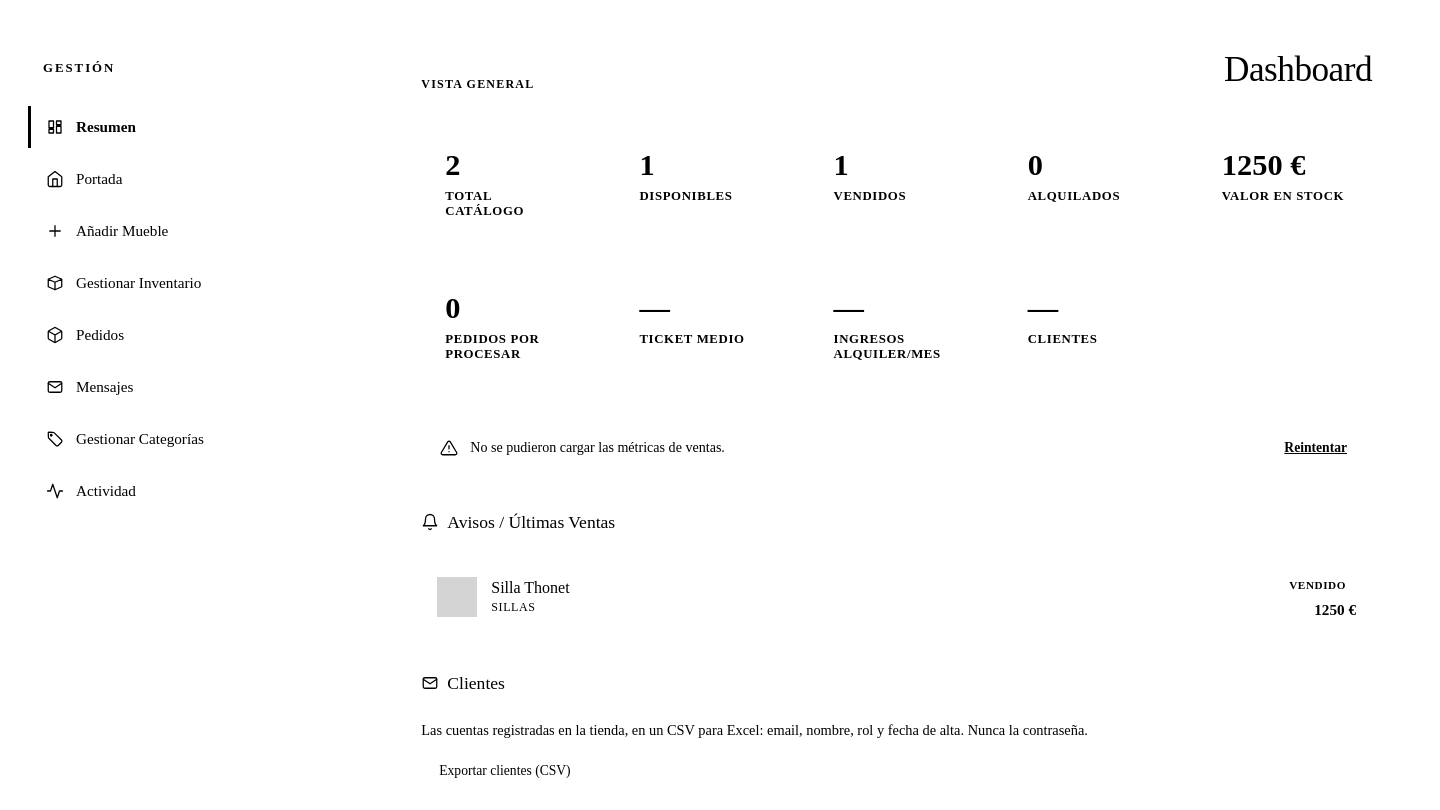
Test: Inventario — duplicar pieza › el menú de cada fila tiene "Duplicar", y pide confirmación antes de hacer nada
Click the button "Gestionar Inventario" at point(185, 283), box [28, 262, 341, 304]
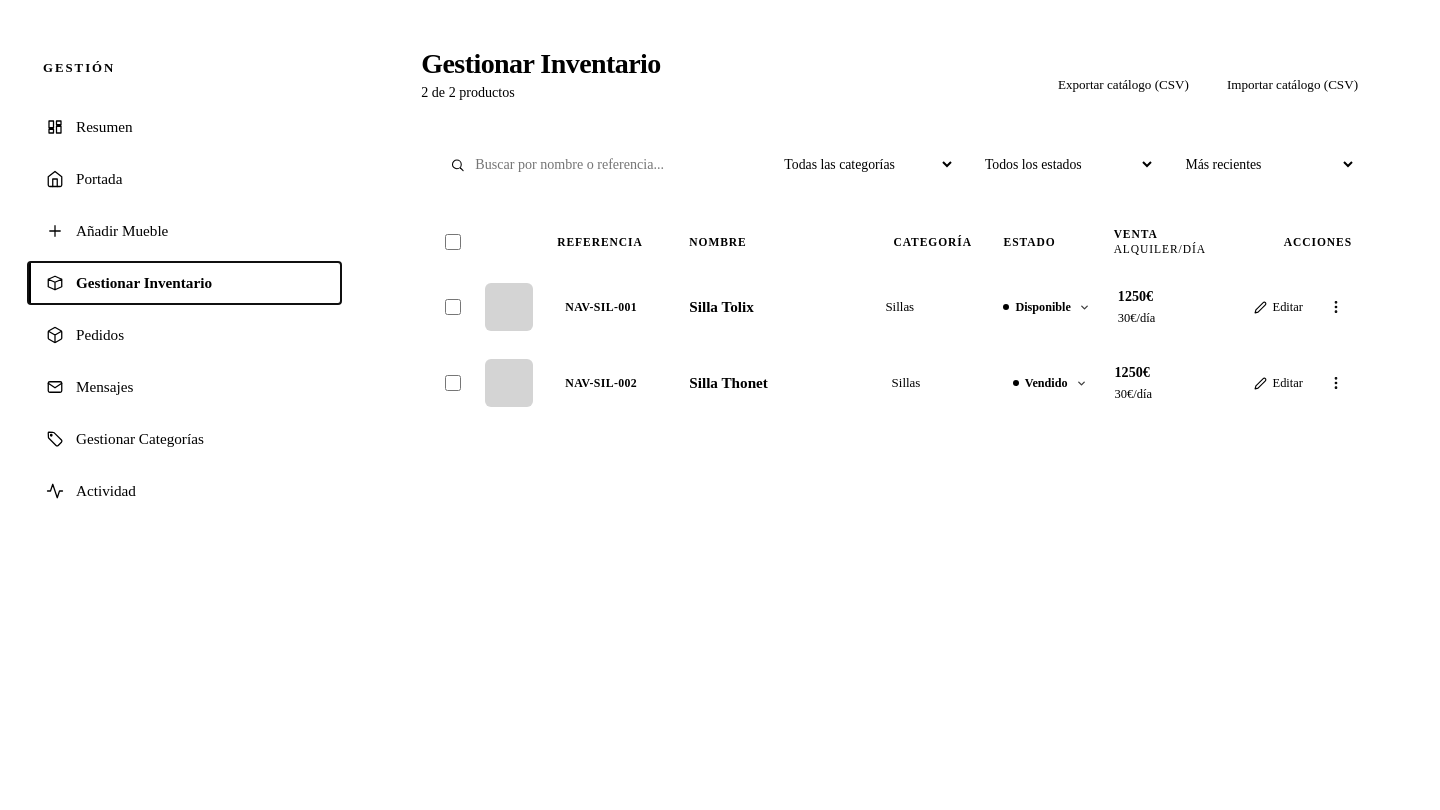
Click the button named "Más acciones de Silla Tolix" at point(1336, 307), box [1320, 293, 1352, 321]
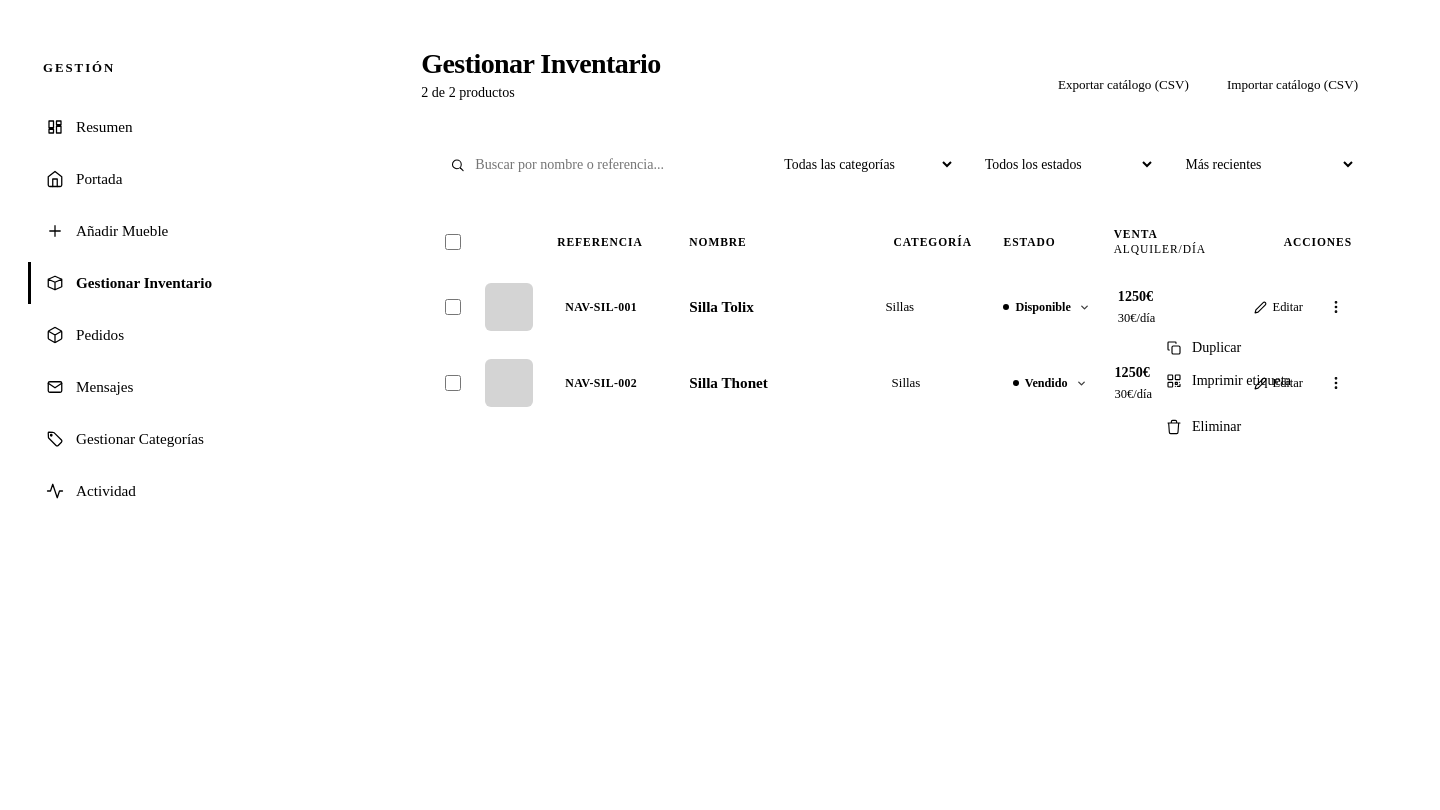
Check: the menu item "Duplicar" is shown, box [1156, 331, 1346, 364]
Press Escape
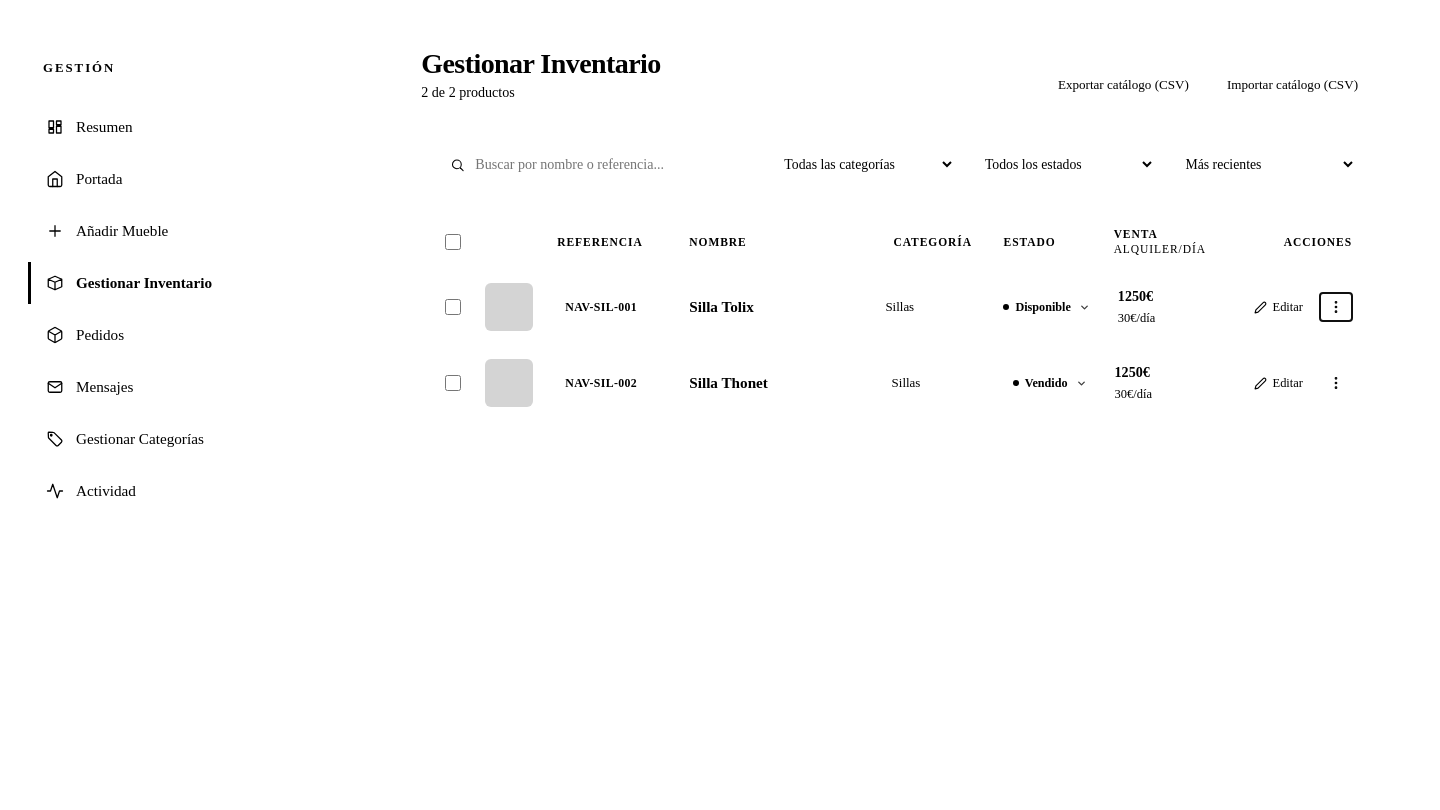
Click the button named "Más acciones de Silla Thonet" at point(1336, 383), box [1320, 369, 1352, 397]
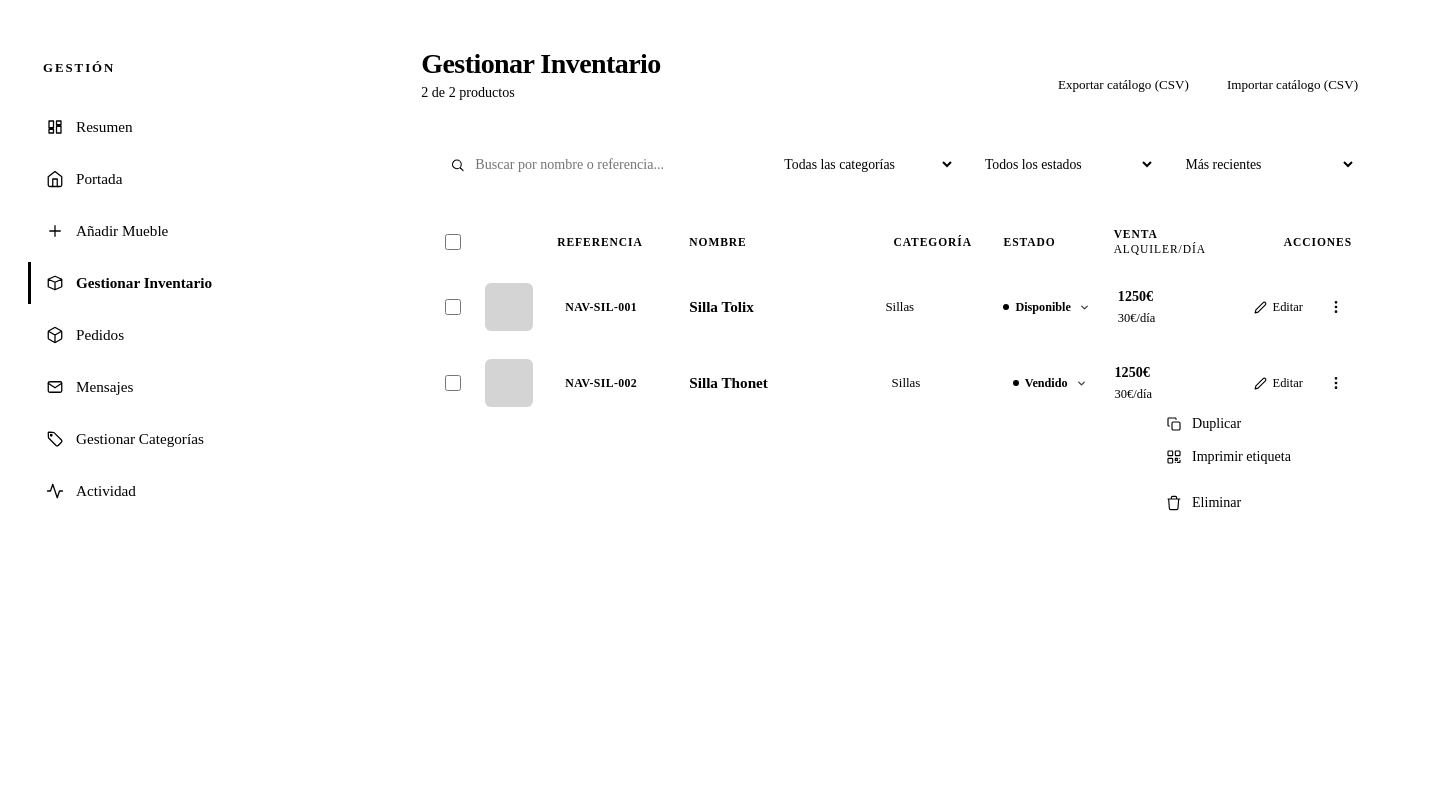
Click the menu item "Duplicar" at point(1251, 424), box [1156, 407, 1346, 440]
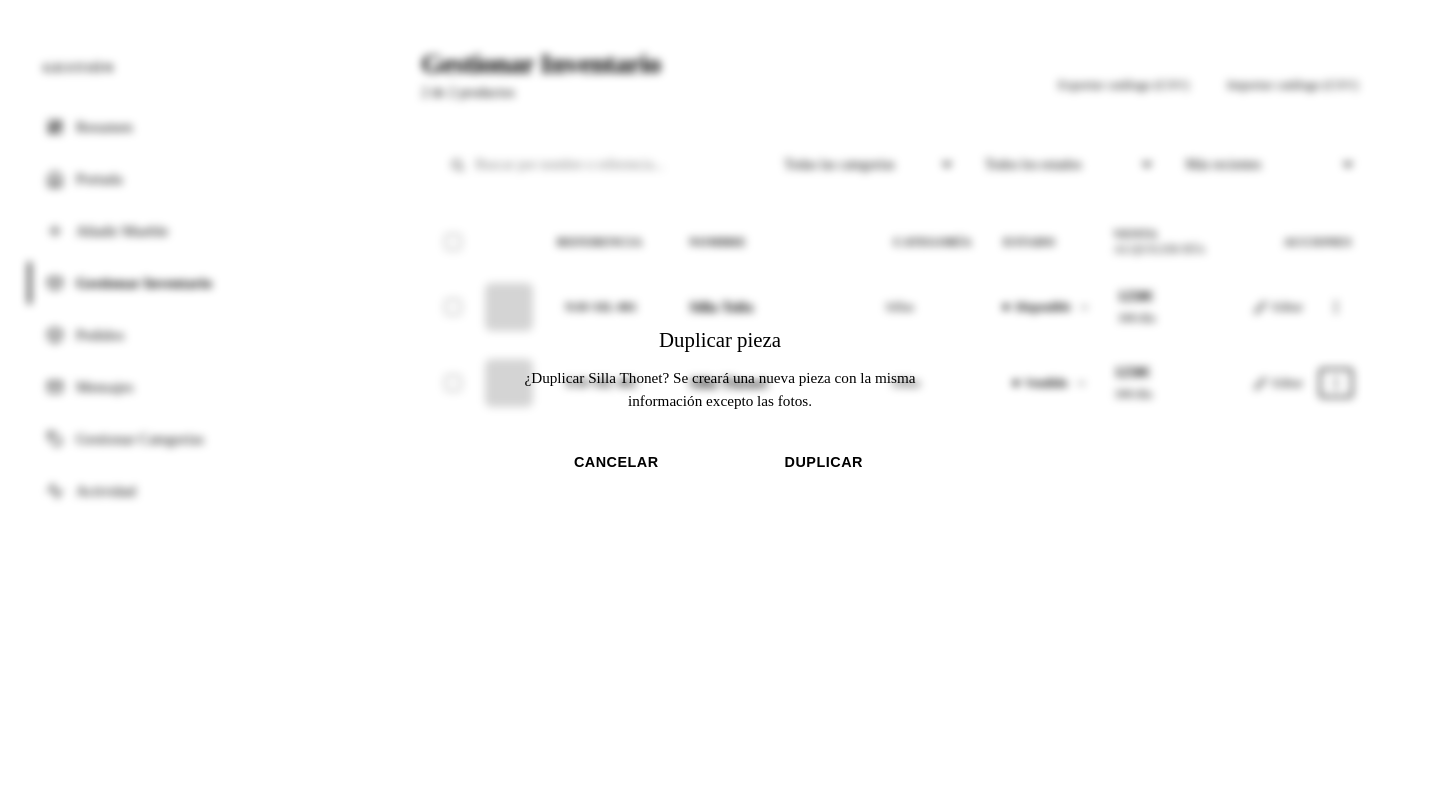
Check: the text "¿Duplicar Silla Thonet? Se creará una nueva pieza con la misma información excepto las fotos." is shown, box [524, 369, 916, 409]
Check: the button "Duplicar" is shown, box [728, 442, 920, 482]
